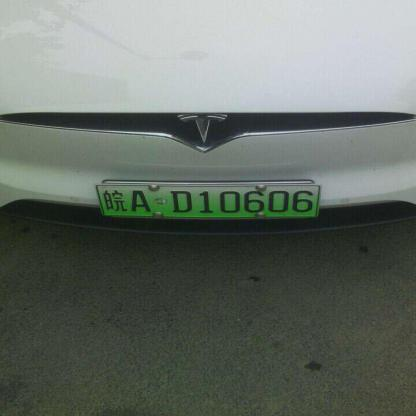lp: (95, 185, 321, 217)
